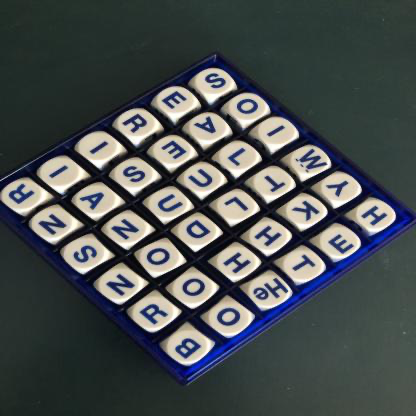a: (76, 185, 119, 215), (189, 114, 229, 142)
b: (167, 330, 211, 364)
d: (179, 216, 221, 248)
e: (318, 226, 362, 259), (157, 88, 198, 117), (154, 137, 194, 166)
h: (217, 246, 259, 278), (250, 221, 291, 253), (356, 201, 397, 230)
he: (247, 274, 293, 310)
i: (258, 117, 299, 149), (41, 159, 83, 187), (80, 134, 120, 162)
k: (286, 195, 326, 227)
l: (216, 190, 258, 223), (220, 144, 262, 170)
n: (32, 208, 79, 241), (98, 268, 141, 303), (107, 213, 150, 246)
o: (207, 302, 252, 334), (141, 241, 183, 274), (173, 273, 216, 304), (228, 93, 268, 122)
r: (133, 297, 174, 330), (117, 109, 157, 140), (4, 181, 44, 210)
s: (65, 238, 110, 271), (195, 68, 236, 98), (117, 160, 155, 189)
t: (283, 249, 324, 283), (253, 168, 295, 197)
u: (148, 188, 192, 220), (184, 165, 224, 193)
w: (290, 146, 331, 178)
y: (319, 174, 362, 203)
